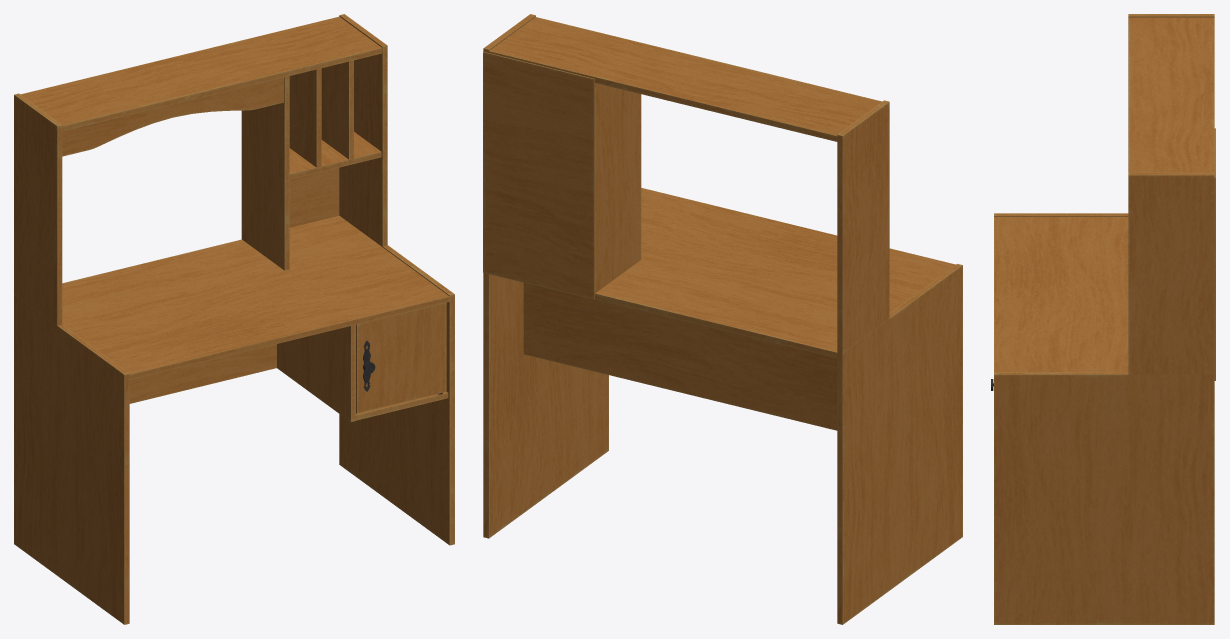
Rendered from madera.glb.
3 renders of one model, left to right at view 1: azimuth 30°, elevation 25°; view 2: azimuth 150°, elevation 25°; view 3: azimuth 270°, elevation 25°, orthographic. The views are drawn at different scales.
Parts seen in each view (by area): view 1: wooden_desk, wooden_desk_door; view 2: wooden_desk; view 3: wooden_desk.
Boxes of the visible parts, bbox=[...] form: wooden_desk: bbox=[14, 14, 454, 624]; wooden_desk_door: bbox=[356, 302, 446, 413]; wooden_desk: bbox=[483, 14, 962, 624]; wooden_desk: bbox=[994, 14, 1215, 624].
Bounding box in the file's own units: 1.04 × 1.35 × 0.6104.
Materials: 1 (1 with a texture image).
